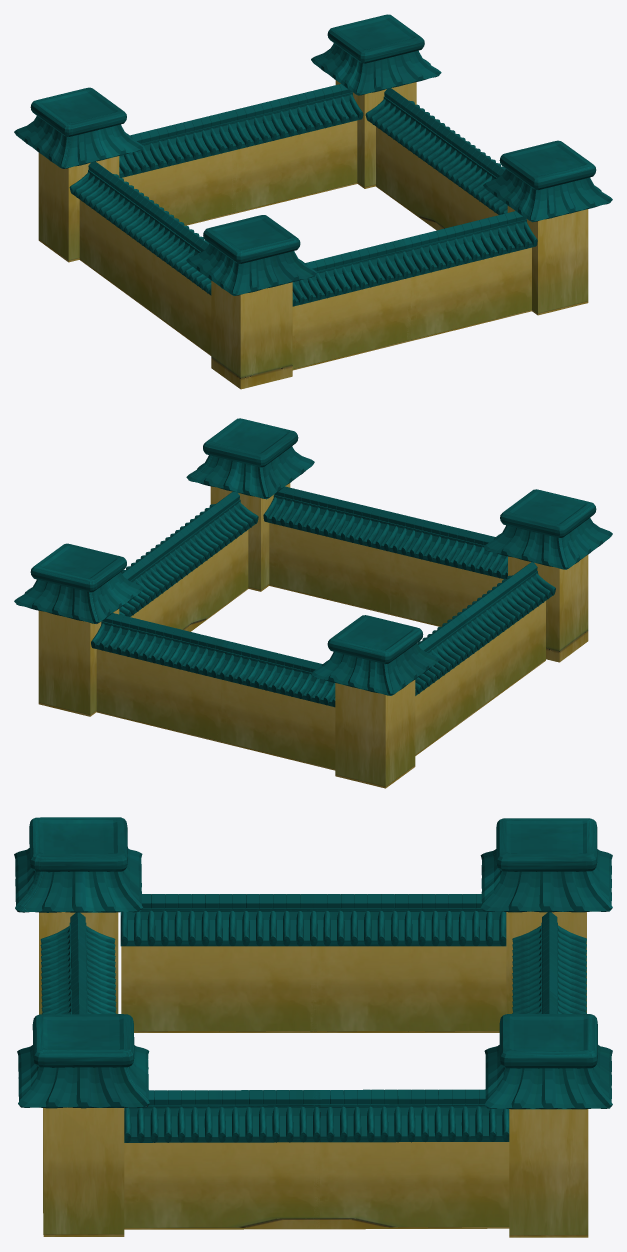
Rendered from SmallerWalls.glb.
The picture shows the model from 3 angles, top to bottom: view 1: azimuth 30°, elevation 25°; view 2: azimuth 150°, elevation 25°; view 3: azimuth 270°, elevation 25°; orthographic projection. The views are drawn at different scales.
Visible parts, largest first — view 1: LargeWalls; view 2: LargeWalls; view 3: LargeWalls.
Boxes of the visible parts, left/top/right/bottom form: LargeWalls: left=14, top=14, right=612, bottom=389; LargeWalls: left=14, top=418, right=612, bottom=788; LargeWalls: left=14, top=817, right=612, bottom=1237.
Size of the model in its own units: 17.8 by 6.16 by 17.83.
Materials: 2 (2 with a texture image).
